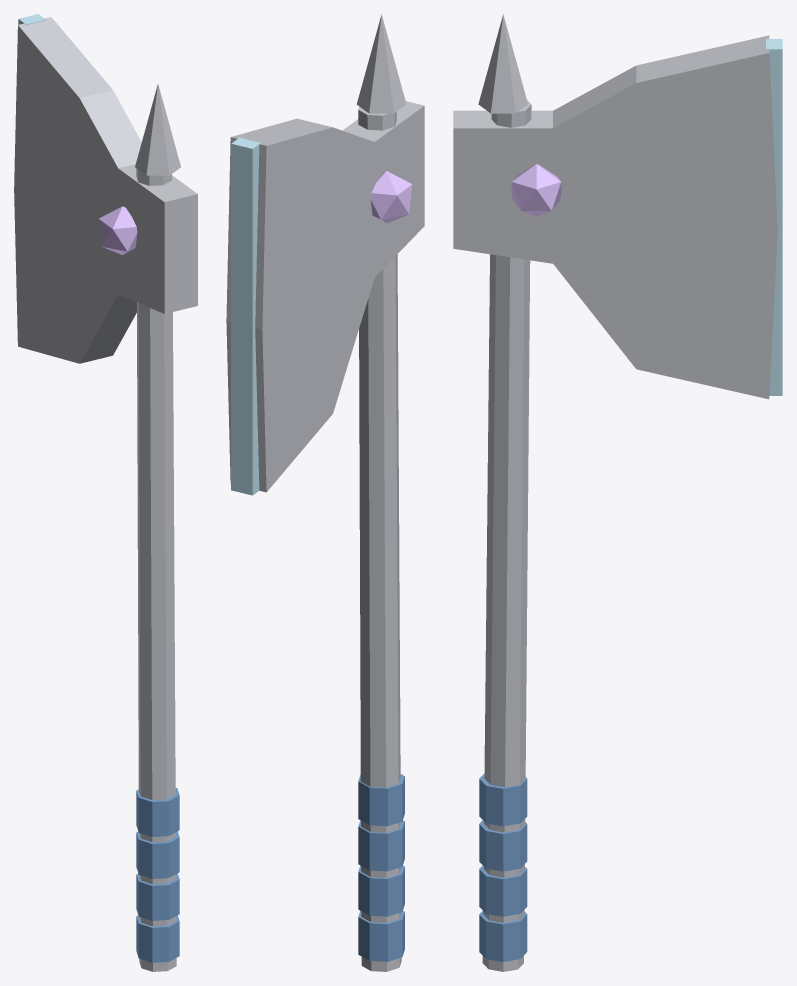
Rendered from Axe_7.fbx.
3 renders of one model, left to right at view 1: azimuth 30°, elevation 25°; view 2: azimuth 150°, elevation 25°; view 3: azimuth 270°, elevation 25°, orthographic. The views are drawn at different scales.
Visible parts, largest first — view 1: Axe_7_Mesh; view 2: Axe_7_Mesh; view 3: Axe_7_Mesh.
Part boxes in pixels (bbox=[...]): Axe_7_Mesh: bbox=[14, 14, 197, 971]; Axe_7_Mesh: bbox=[226, 14, 424, 971]; Axe_7_Mesh: bbox=[453, 14, 782, 971].
Size of the model in its own units: 0.1226 by 1.26 by 0.396.
